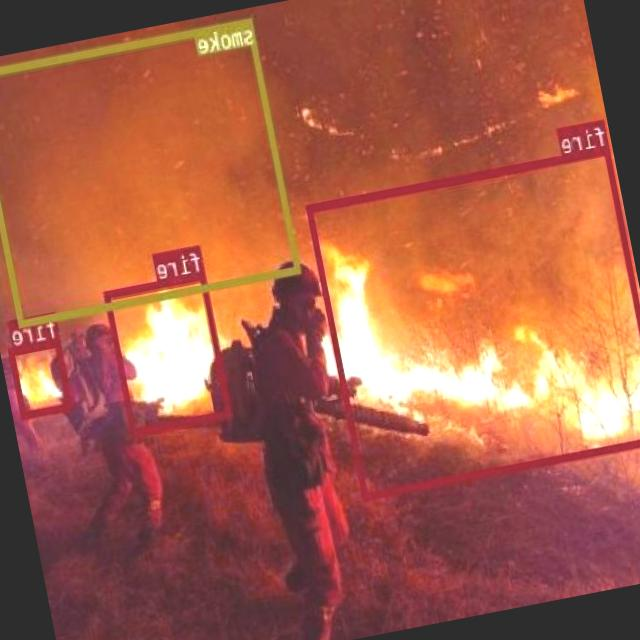fire: (307, 146, 640, 499), (104, 270, 233, 435), (9, 337, 74, 417)
smoke: (0, 15, 302, 325)
